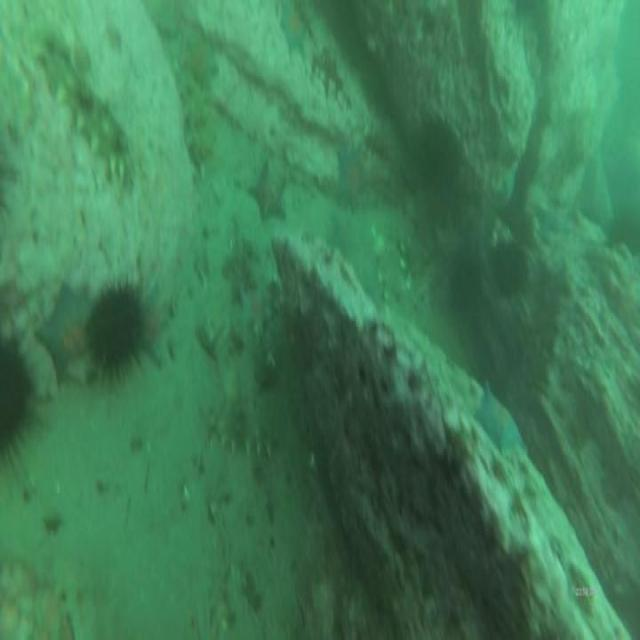echinus: (0, 330, 44, 474), (89, 281, 147, 386), (419, 112, 461, 198), (491, 232, 532, 305), (604, 207, 640, 253)
holothurian: (39, 44, 133, 184), (197, 392, 288, 464), (173, 60, 216, 169)
starfish: (33, 272, 97, 386), (475, 378, 529, 460), (246, 156, 291, 226), (137, 283, 169, 370), (335, 142, 372, 210), (278, 0, 310, 54)
